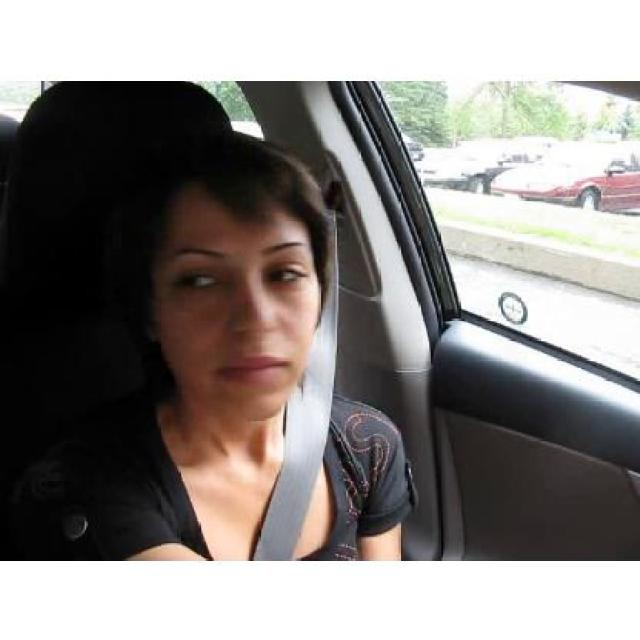attentif: (136, 136, 327, 418)
